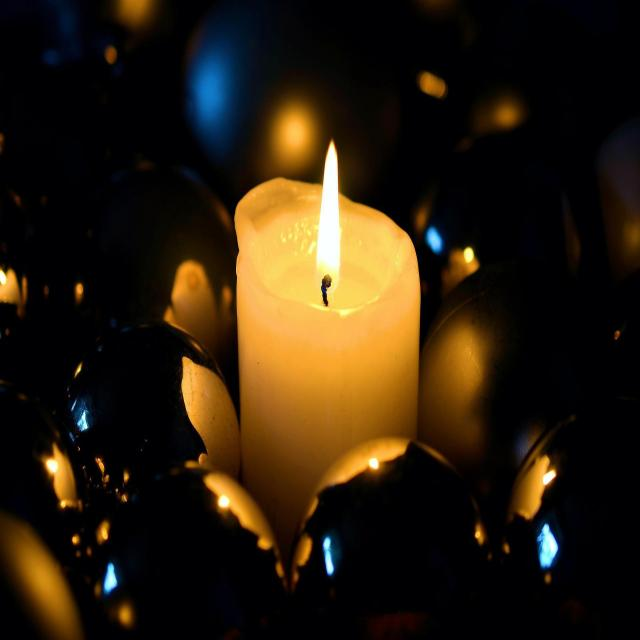Fire_Save: (233, 137, 422, 558)
